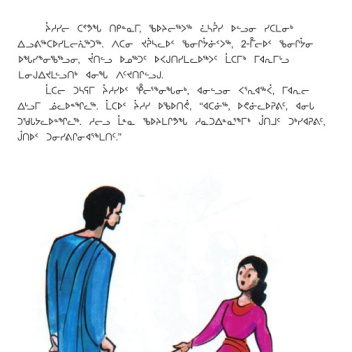inuktitut: (44, 17, 295, 36), (15, 98, 314, 112), (16, 114, 326, 127), (16, 51, 291, 65), (43, 82, 311, 96), (15, 36, 313, 48), (16, 67, 165, 82), (16, 127, 124, 145)
